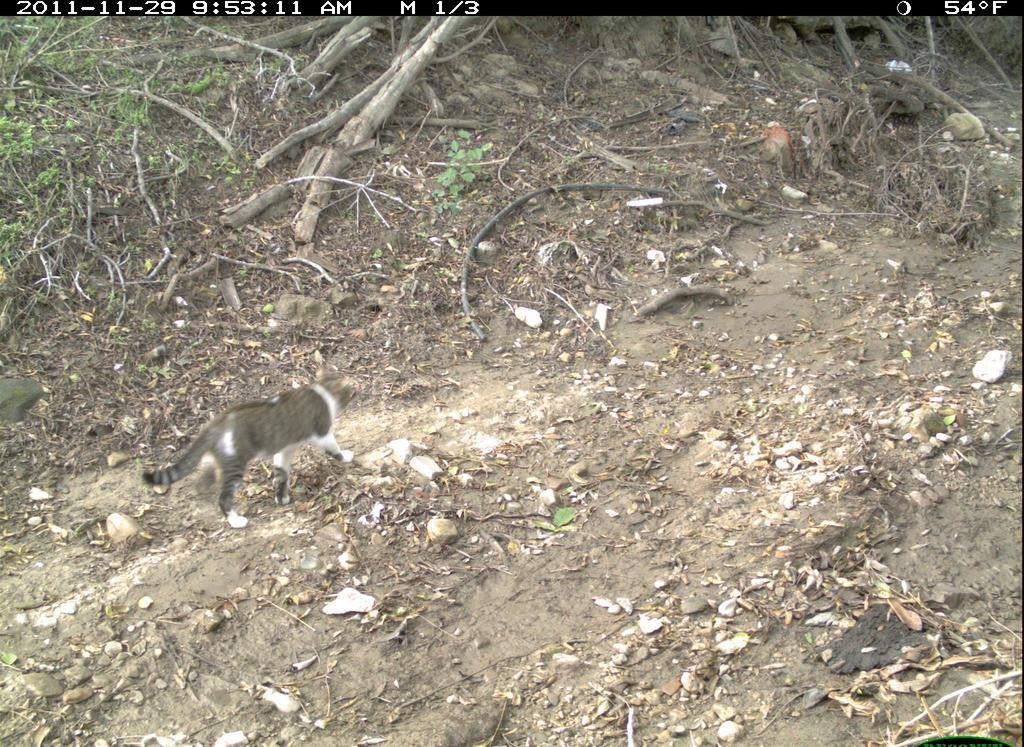cat: (136, 357, 365, 534)
